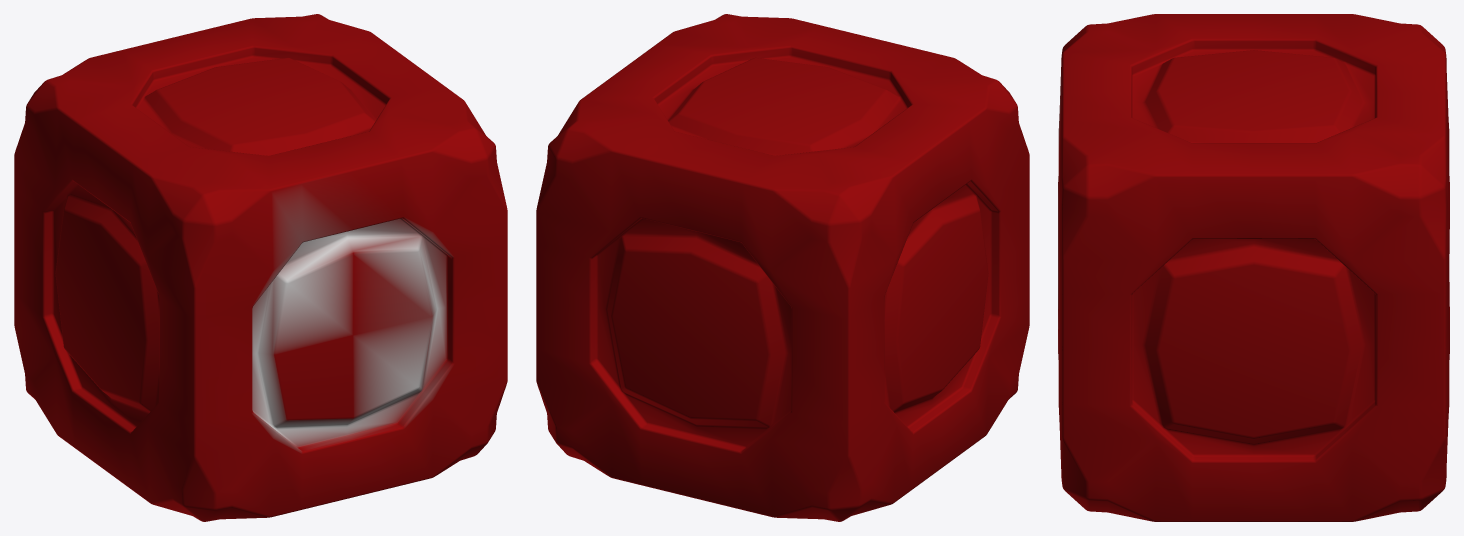
3 renders of one model, left to right at view 1: azimuth 30°, elevation 25°; view 2: azimuth 150°, elevation 25°; view 3: azimuth 270°, elevation 25°, orthographic. The views are drawn at different scales.
Parts seen in each view (by area): view 1: Cube; view 2: Cube; view 3: Cube.
Boxes of the visible parts, x1,y1,x2,y2 form: Cube: (14,14,507,521); Cube: (536,14,1029,521); Cube: (1058,14,1449,521).
Bounding box in the file's own units: 1.07 × 1.07 × 1.07.
